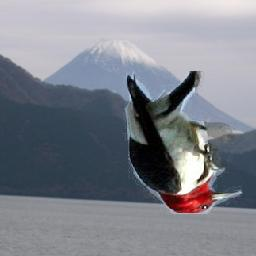Woodpecker: (123, 72, 243, 215)
